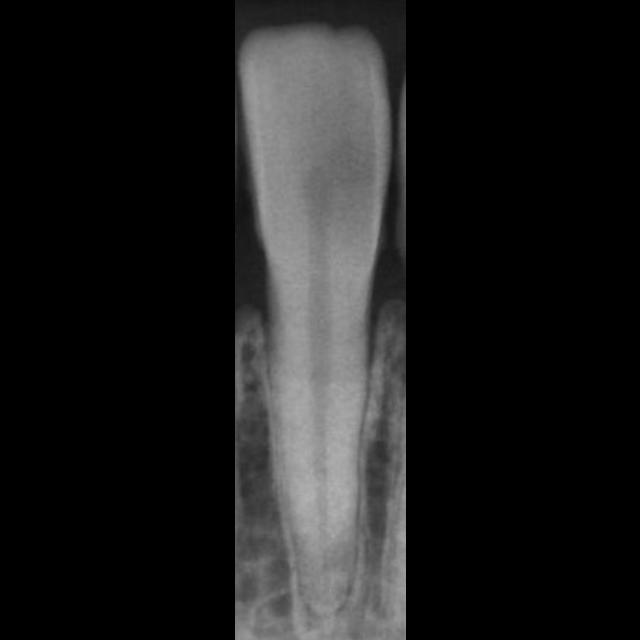tooth: (240, 33, 387, 609)
